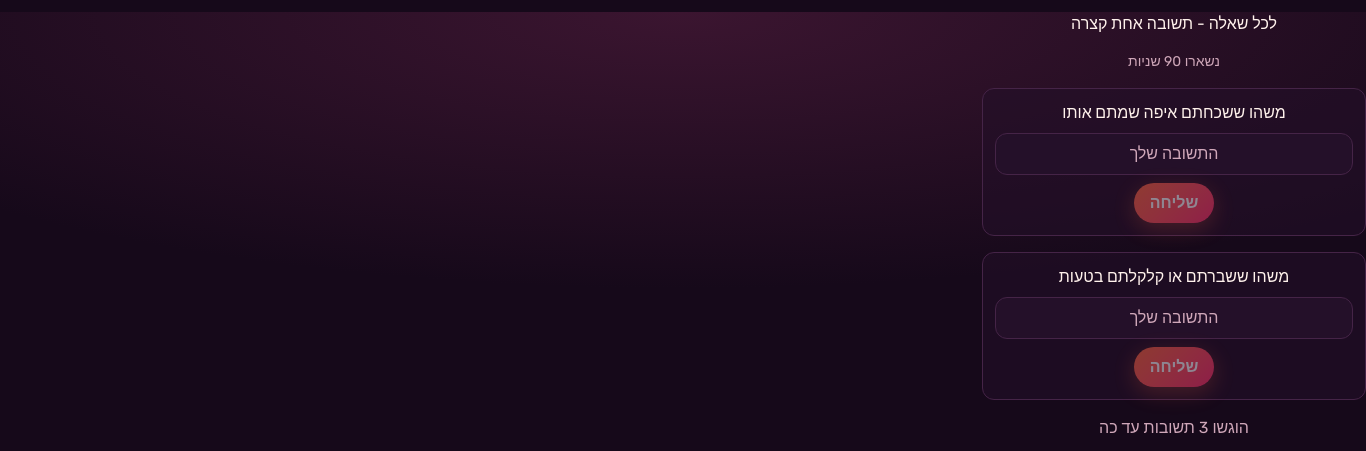
Scenario: Harvest › sends an answer and then shows it as sent
This screenshot has width=1366, height=451.
In the field with placeholder "התשובה שלך" below "משהו ששכחתם איפה שמתם אותו": (1174, 154) 995,133 -> 1353,175, type "my answer"
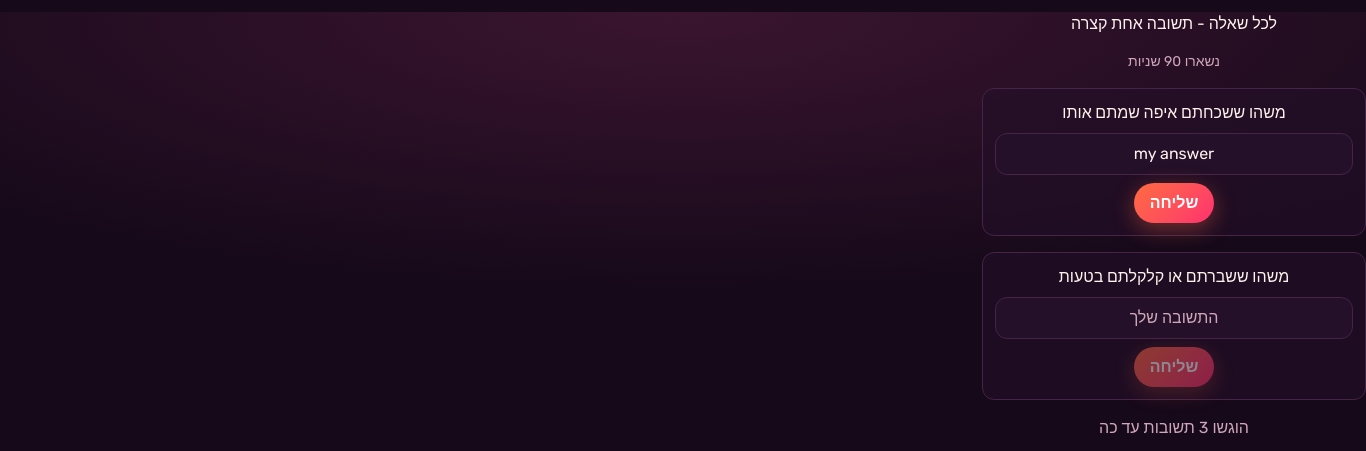
Click the button "שליחה" below "משהו ששכחתם איפה שמתם אותו": click(1174, 203) 1134,183 -> 1214,223
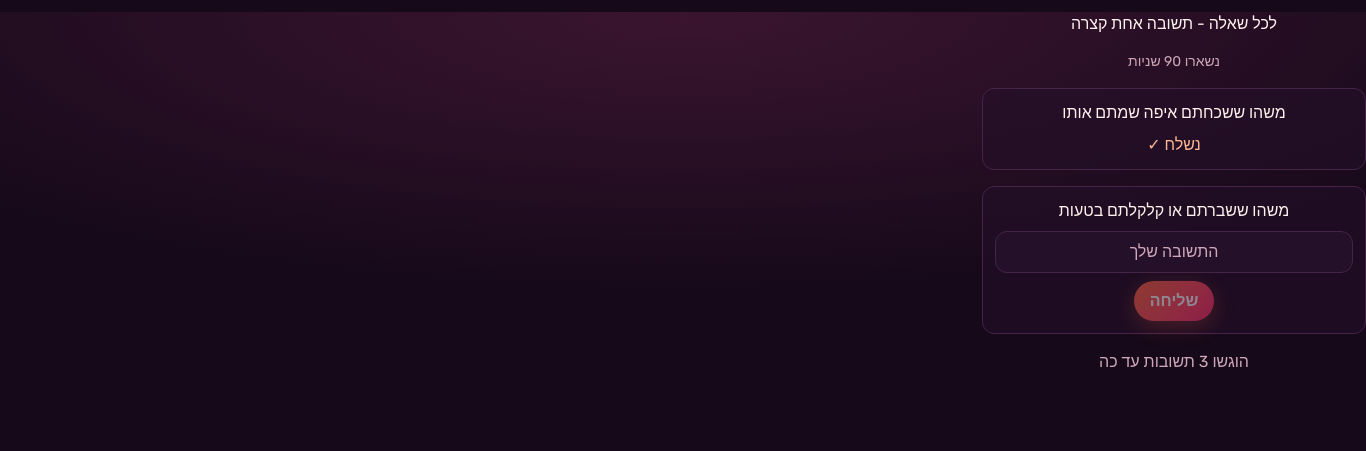
expect the text "נשלח ✓" is shown: met, box 1147,133 -> 1201,157
